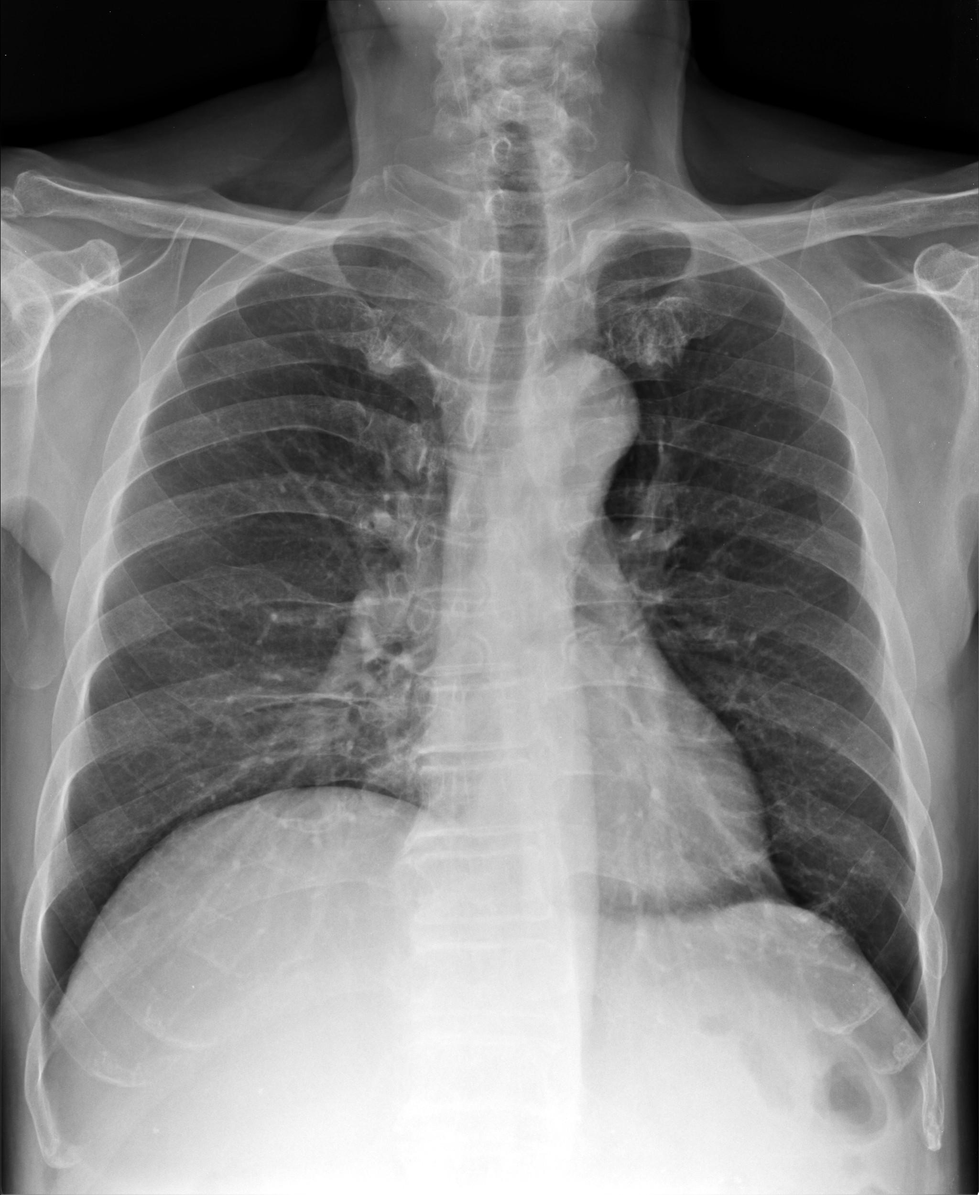Aortic enlargement: (521, 351, 642, 486)
